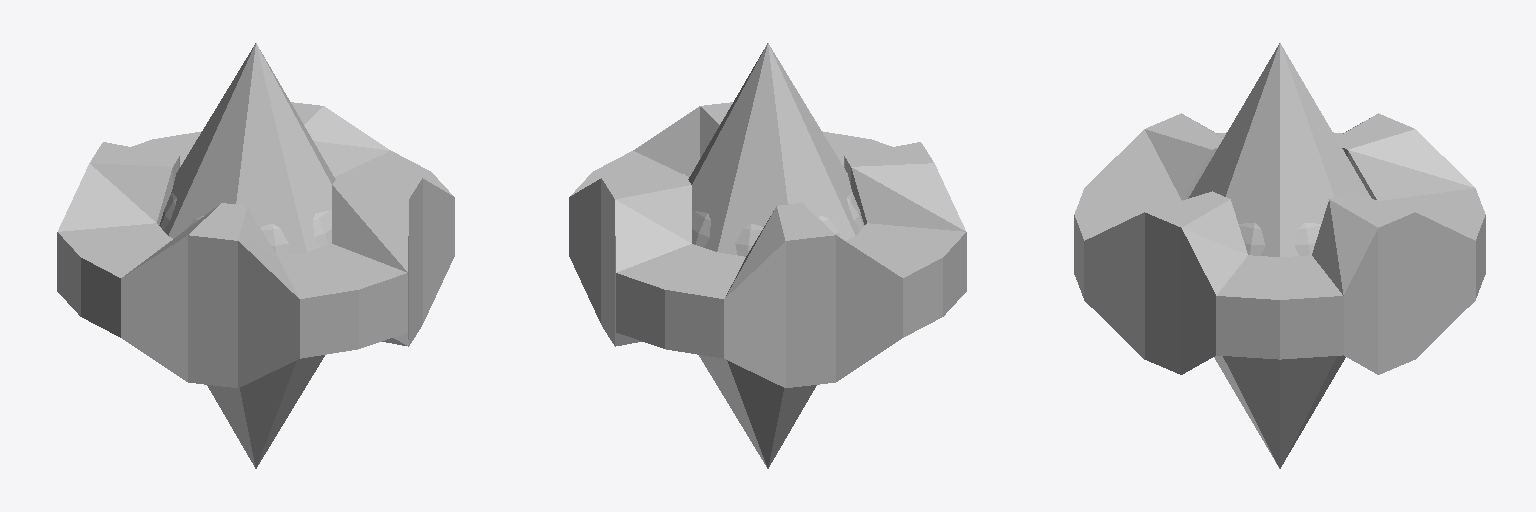
Rendered from Core_Crystal.obj.
3 renders of one model, left to right at view 1: azimuth 30°, elevation 25°; view 2: azimuth 150°, elevation 25°; view 3: azimuth 270°, elevation 25°, orthographic.
Parts seen in each view (by area): view 1: Core_Crystal:CrystalBase1 Core_Crystal:polySurface3 Core_Crystal, Core_Crystal:pCone3 Core_Crystal:polySurface3 Core_Crystal:polyS, Core_Crystal:pCone3 Core_Crystal:polySurface2 Core_Crystal:polyS; view 2: Core_Crystal:CrystalBase1 Core_Crystal:polySurface3 Core_Crystal, Core_Crystal:pCone3 Core_Crystal:polySurface3 Core_Crystal:polyS, Core_Crystal:pCone3 Core_Crystal:polySurface2 Core_Crystal:polyS; view 3: Core_Crystal:CrystalBase1 Core_Crystal:polySurface3 Core_Crystal, Core_Crystal:pCone3 Core_Crystal:polySurface3 Core_Crystal:polyS, Core_Crystal:pCone3 Core_Crystal:polySurface2 Core_Crystal:polyS.
Part boxes in pixels (x1,y1,x2,y2): Core_Crystal:CrystalBase1 Core_Crystal:polySurface3 Core_Crystal: (57, 102, 454, 387); Core_Crystal:pCone3 Core_Crystal:polySurface3 Core_Crystal:polyS: (164, 43, 335, 254); Core_Crystal:pCone3 Core_Crystal:polySurface2 Core_Crystal:polyS: (207, 355, 324, 468); Core_Crystal:CrystalBase1 Core_Crystal:polySurface3 Core_Crystal: (569, 102, 966, 387); Core_Crystal:pCone3 Core_Crystal:polySurface3 Core_Crystal:polyS: (688, 43, 859, 254); Core_Crystal:pCone3 Core_Crystal:polySurface2 Core_Crystal:polyS: (699, 355, 816, 468); Core_Crystal:CrystalBase1 Core_Crystal:polySurface3 Core_Crystal: (1074, 113, 1485, 374); Core_Crystal:pCone3 Core_Crystal:polySurface3 Core_Crystal:polyS: (1188, 43, 1371, 256); Core_Crystal:pCone3 Core_Crystal:polySurface2 Core_Crystal:polyS: (1214, 355, 1345, 468).
Bounding box in the file's own units: 1.83 × 2.13 × 1.86.